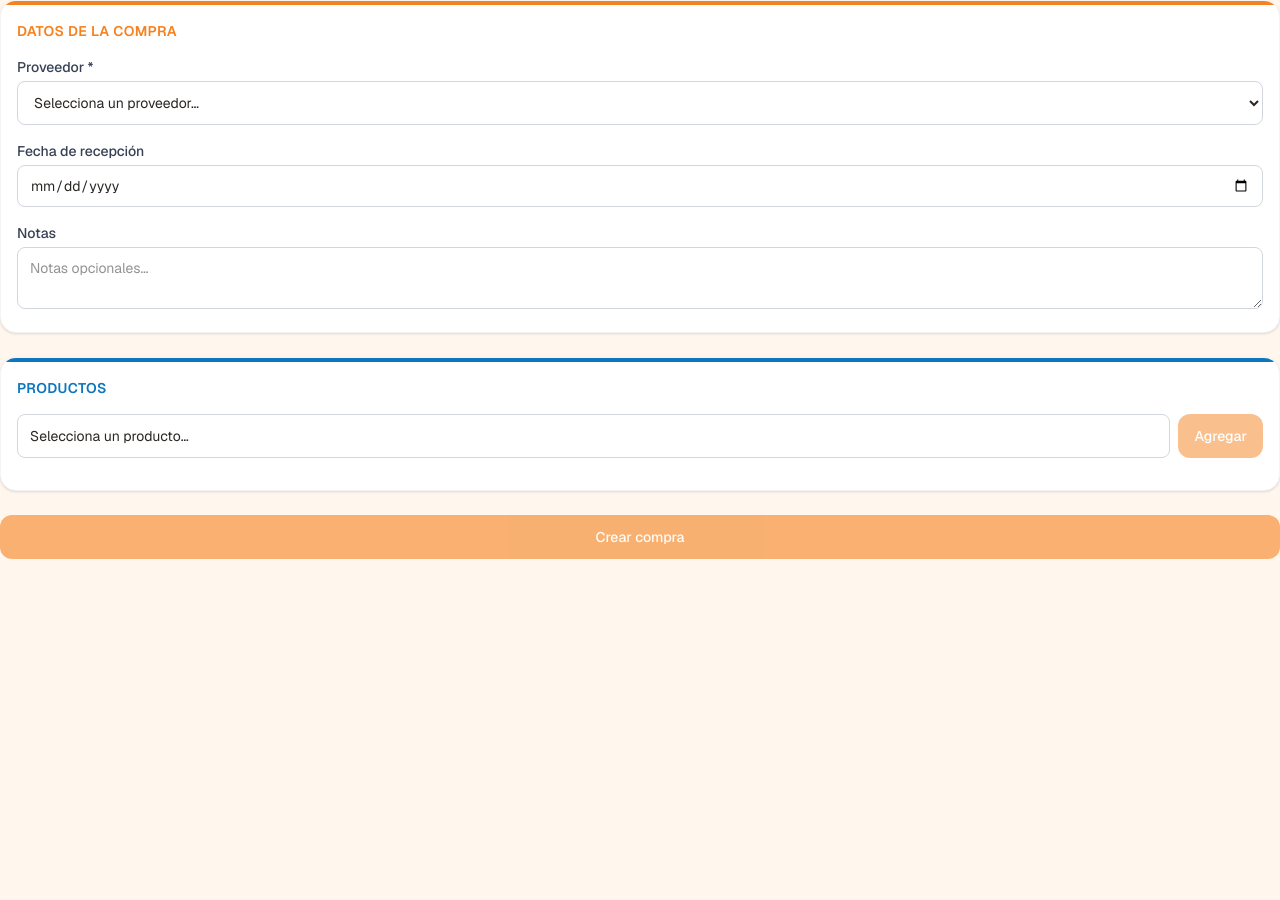
Test: PurchaseBuilder — remove item › disables submit again after removing all items
Click the button with aria-label "agregar producto": (109, 436) 17,414 -> 1170,458
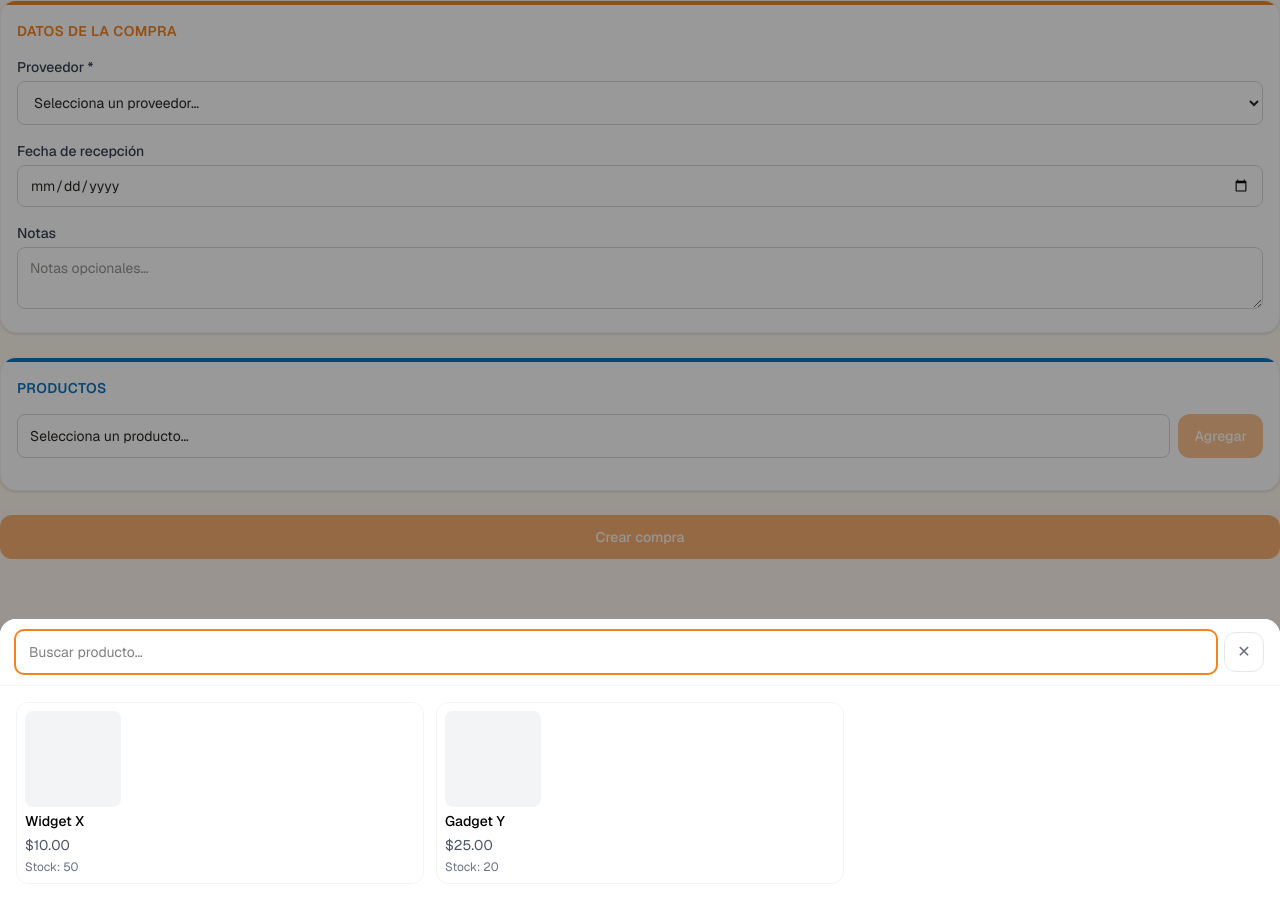
Click the button "Widget X $10.00 Stock: 50": (73, 759) 16,702 -> 424,884
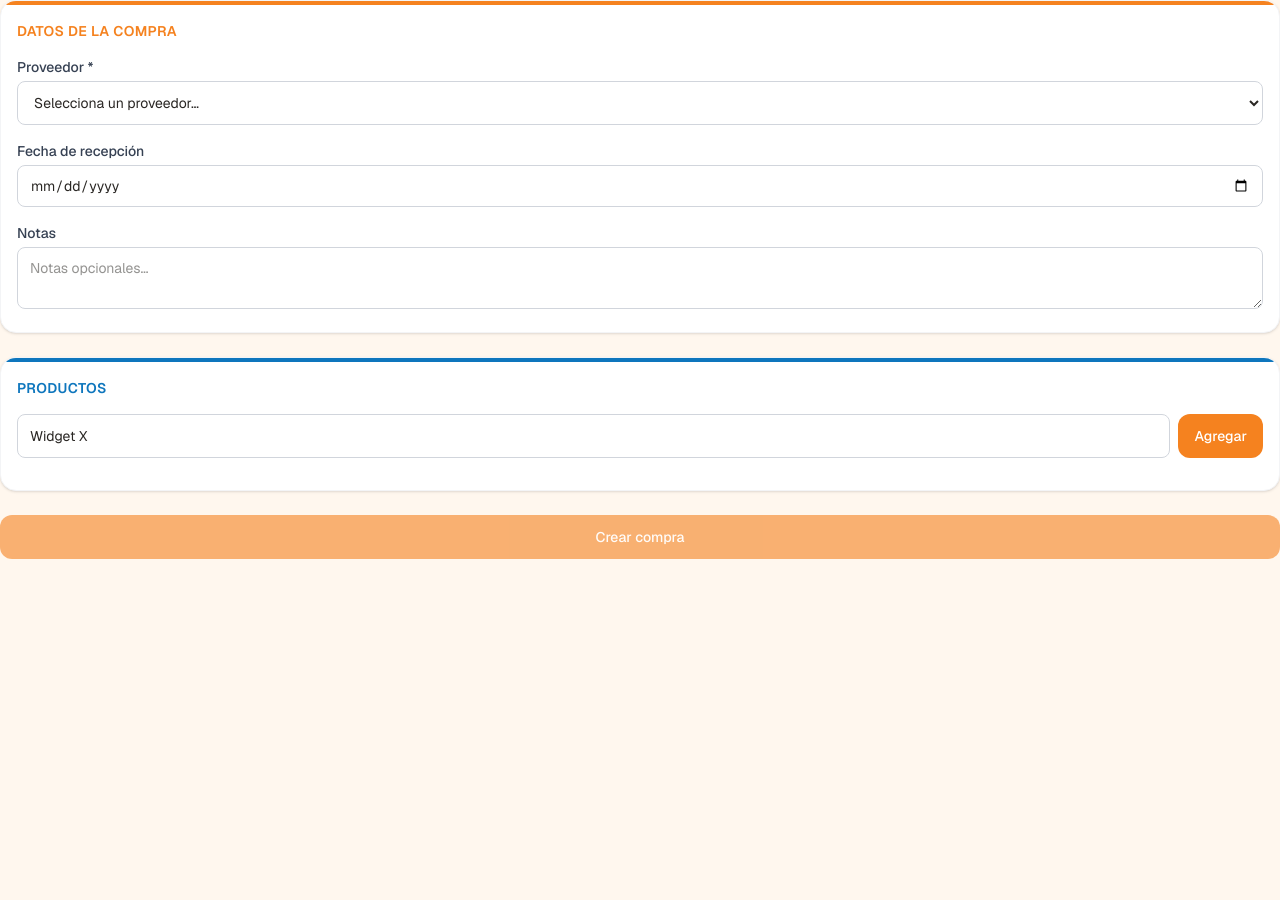
Click the button "Agregar": (1221, 436) 1178,414 -> 1263,458
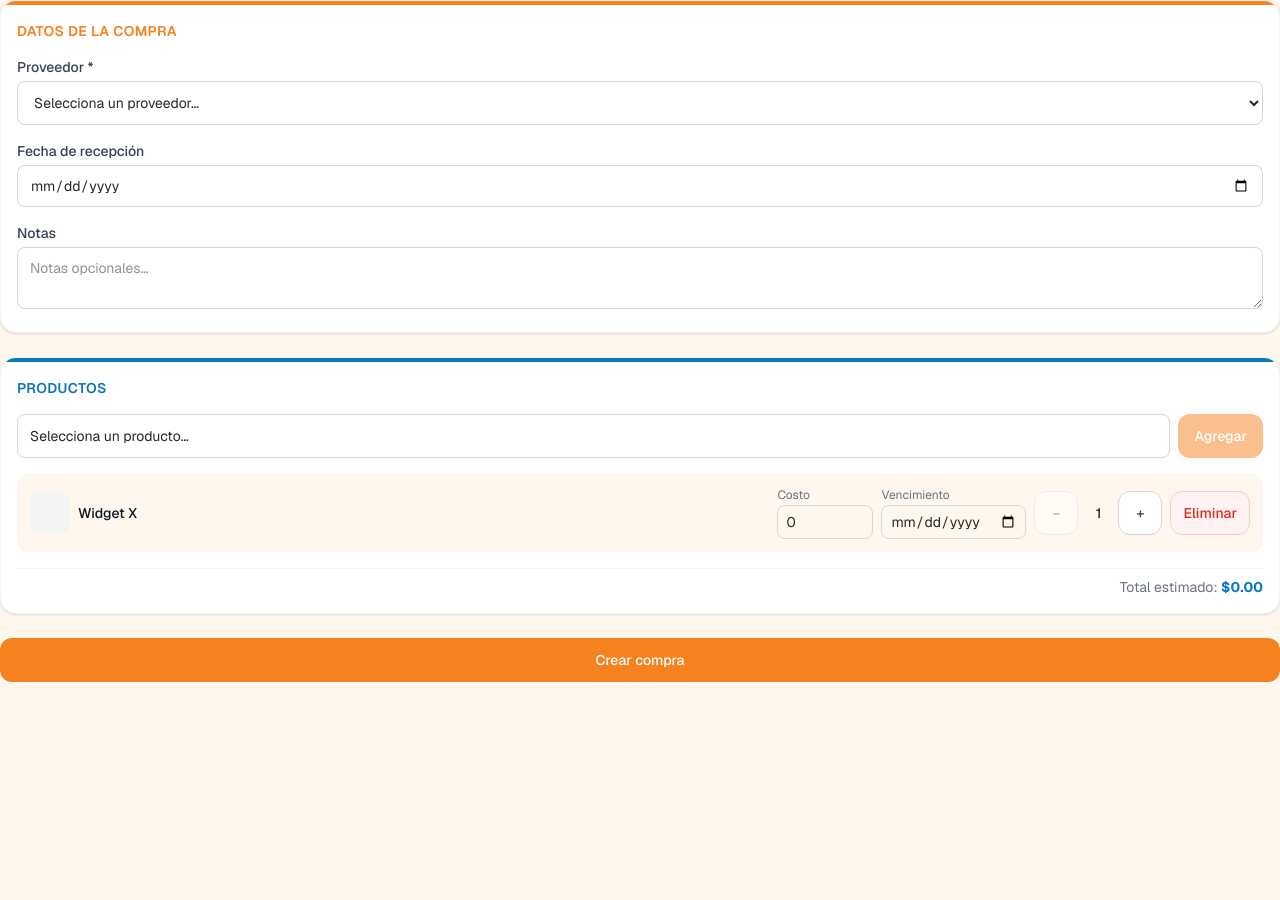
Click the button "Eliminar": (1210, 513) 1170,491 -> 1250,535
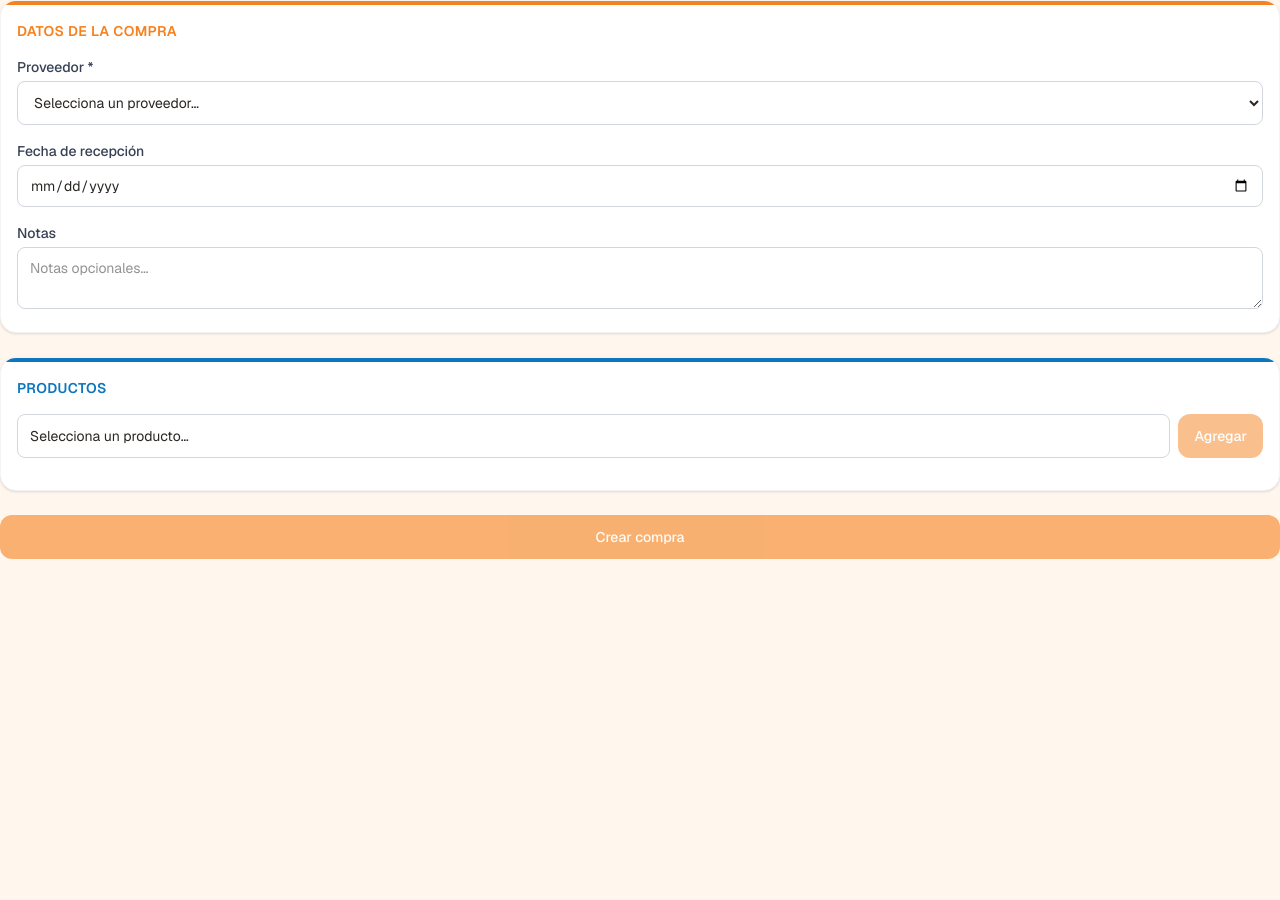
Now the button "Crear compra" is disabled, box 0,515 -> 1279,559
